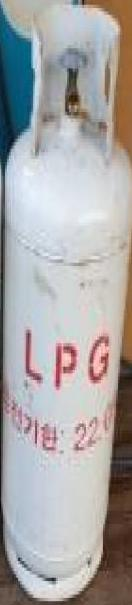cylinder: (1, 1, 132, 605)
